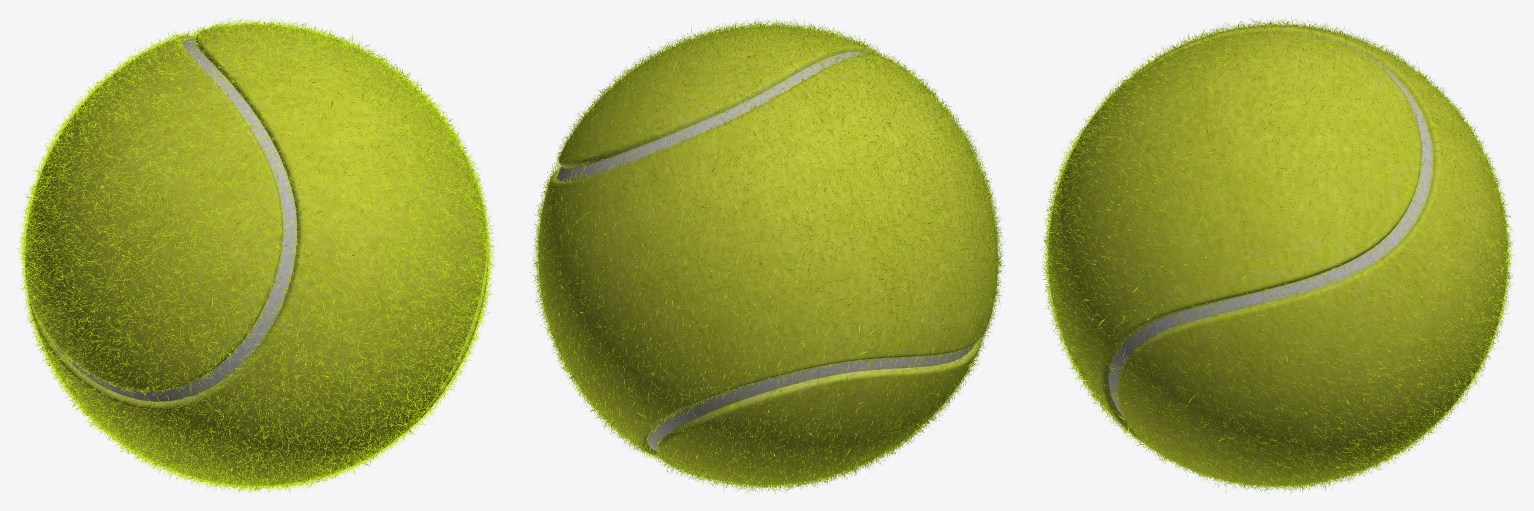
Rendered from ball_f25_s0.5.glb.
The picture shows the model from 3 angles, left to right: view 1: azimuth 30°, elevation 25°; view 2: azimuth 150°, elevation 25°; view 3: azimuth 270°, elevation 25°; orthographic projection.
Parts seen in each view (by area): view 1: Object_2; view 2: Object_2; view 3: Object_2.
Part boxes in pixels (box(x1,y1,x2,y2)): Object_2: box(16, 16, 496, 494); Object_2: box(530, 17, 1005, 494); Object_2: box(1040, 18, 1517, 493).
Bounding box in the file's own units: 0.0668 × 0.067 × 0.067.
2 materials, 1 textured.
